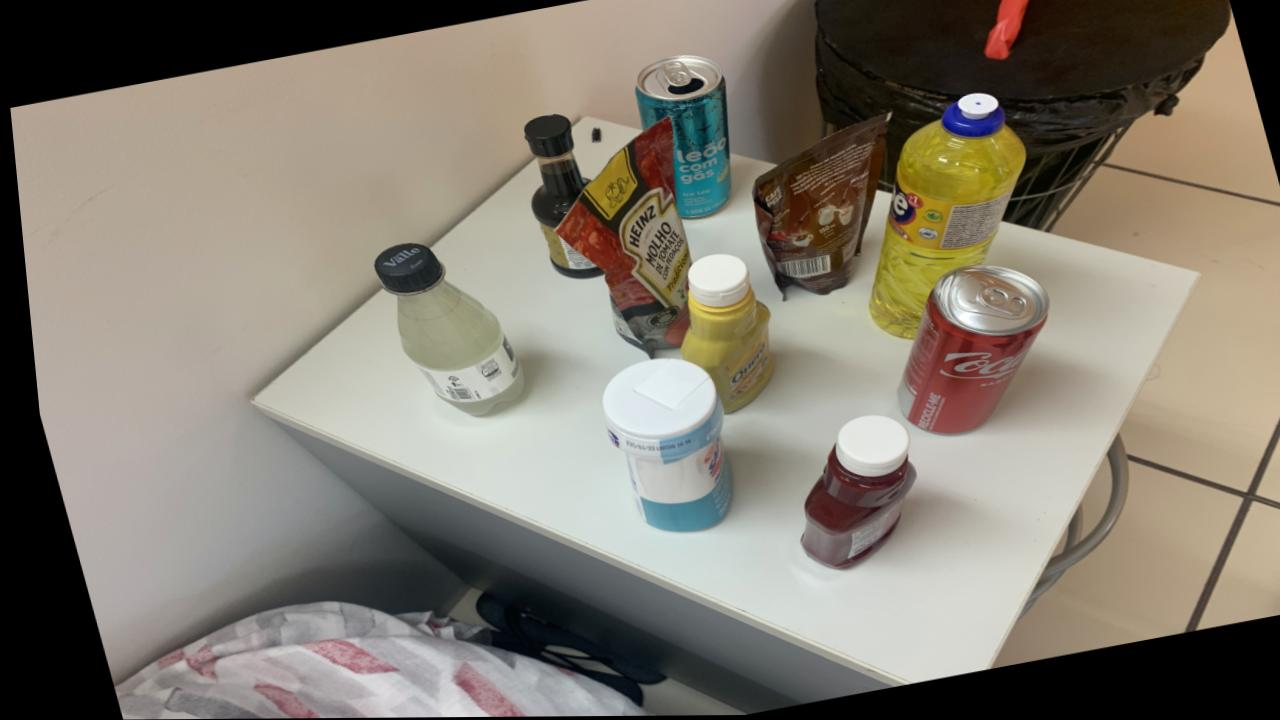Cleaner-Cleanup_Items: (593, 359, 723, 532)
Coffee-Pantry_Items: (748, 115, 887, 296)
Coke-Drinks: (889, 265, 1043, 436)
Detergent-Cleanup_Items: (863, 93, 1023, 339)
English_Sauce-Pantry_Items: (520, 115, 596, 279)
Ketchup-Pantry_Items: (790, 415, 906, 570)
Mustard-Pantry_Items: (673, 255, 766, 414)
Soda-Drinks: (369, 243, 517, 416)
Tea-Drinks: (633, 55, 728, 219)
Tomato_Sauce-Pantry_Items: (552, 119, 687, 357)
